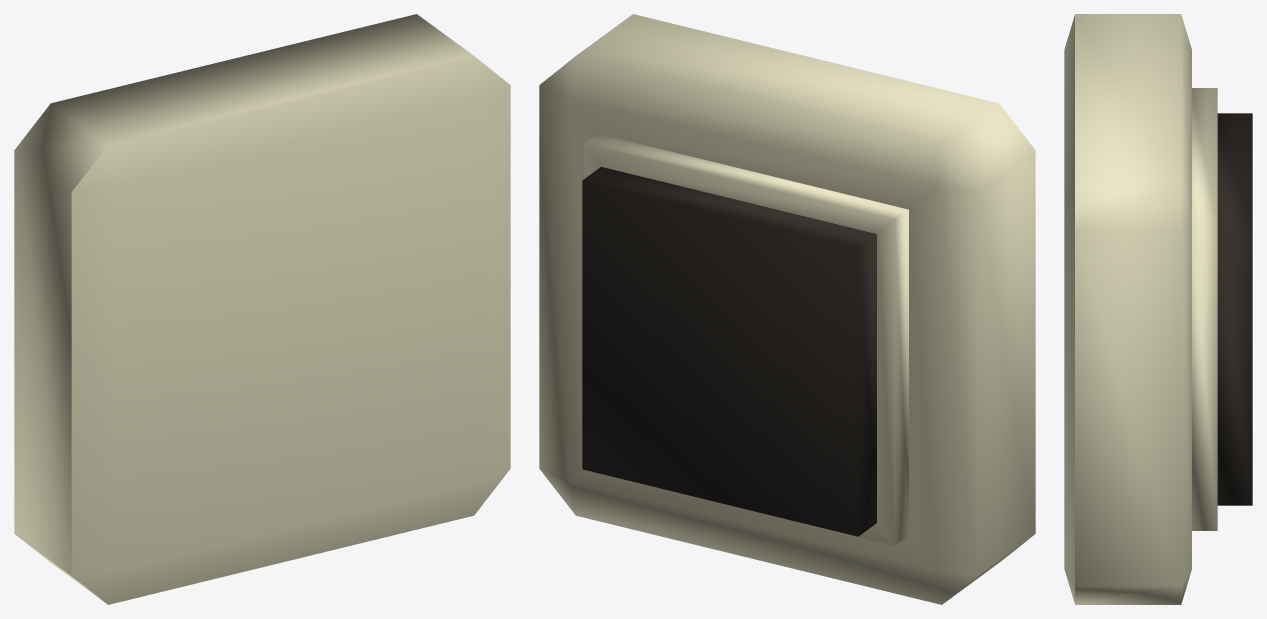
The model's file is Interruptor.glb.
3 views of the same model, side by side, from view 1: azimuth 30°, elevation 25°; view 2: azimuth 150°, elevation 25°; view 3: azimuth 270°, elevation 25° (orthographic). The views are drawn at different scales.
Parts seen in each view (by area): view 1: Interruptor; view 2: Interruptor; view 3: Interruptor.
Boxes of the visible parts, x1,y1,x2,y2 form: Interruptor: (14,14,510,604); Interruptor: (539,14,1035,604); Interruptor: (1064,14,1252,604).
Size of the model in its own units: 0.1467 by 0.1467 by 0.0587.
